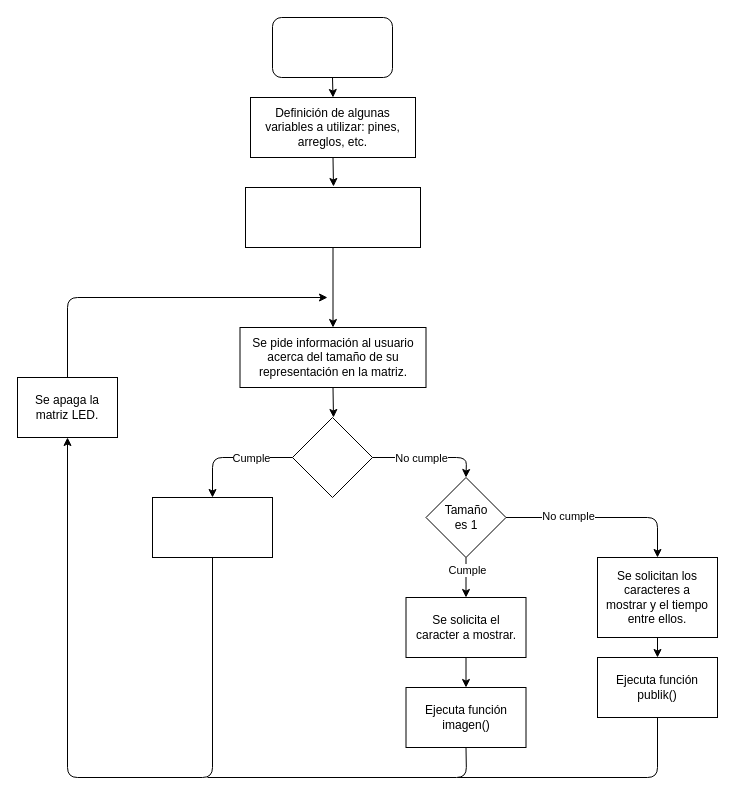
The diagram is 735 pixels wide and 803 high, and some of its shapes have lost their labels. The shapes that lost their labels are listed below. From the top down, each one's centre as x and y in pixels, then its label:
[332,47]: INICIO
[332,217]: Configuración de puertos digitales y puerto serial.
[332,457]: Tamaño es -1
[212,527]: Ejecuta función verificacion()
